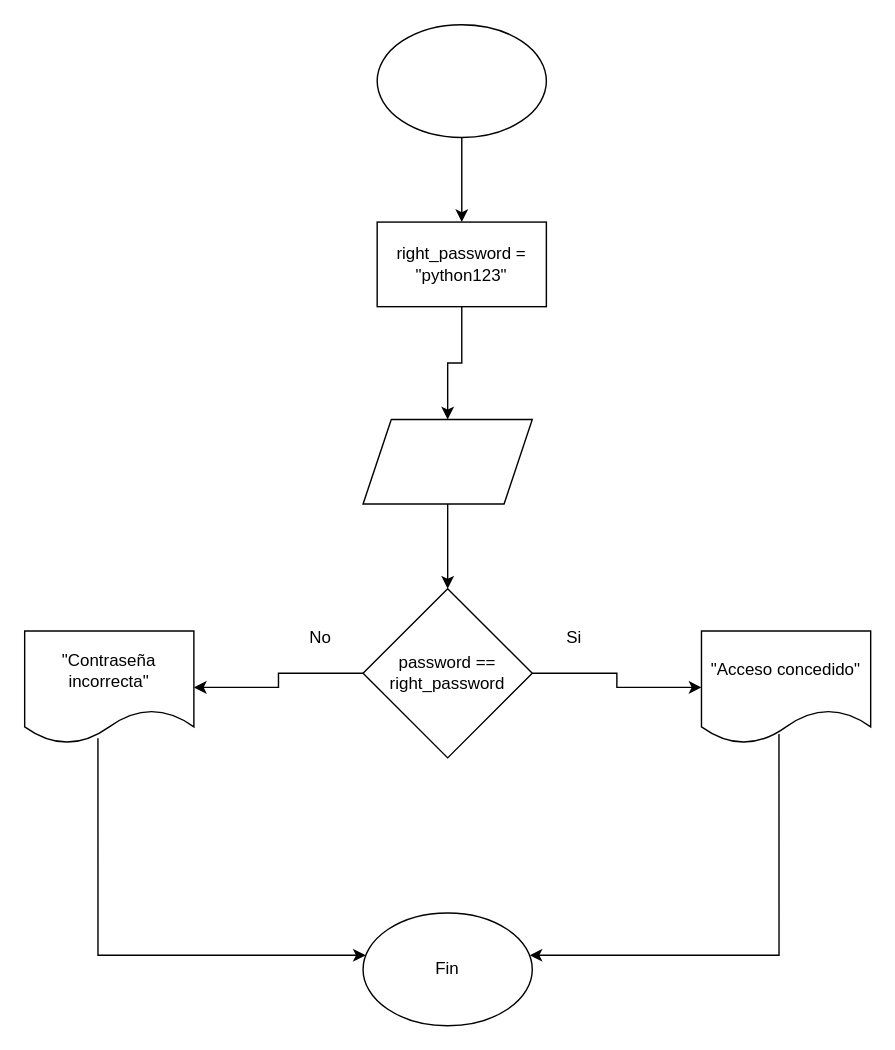
This 895x1050 diagram has some shape labels left out. The shapes that lost their labels are listed below. From the top down, each one's centre as x and y in pixels, then its label:
point (461, 80): Inicio
point (447, 461): password
